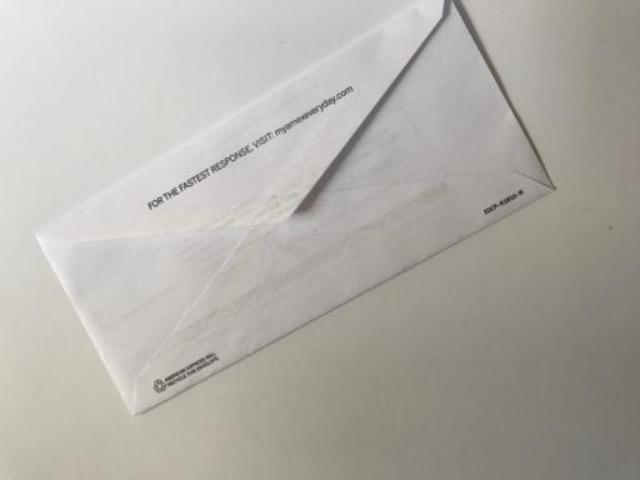cardboard paper: (39, 0, 551, 414)
